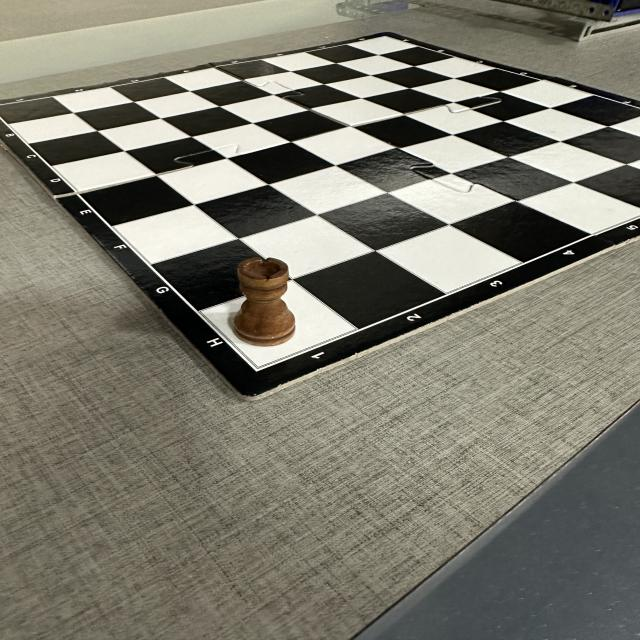Black-Rook: (232, 257, 299, 346)
